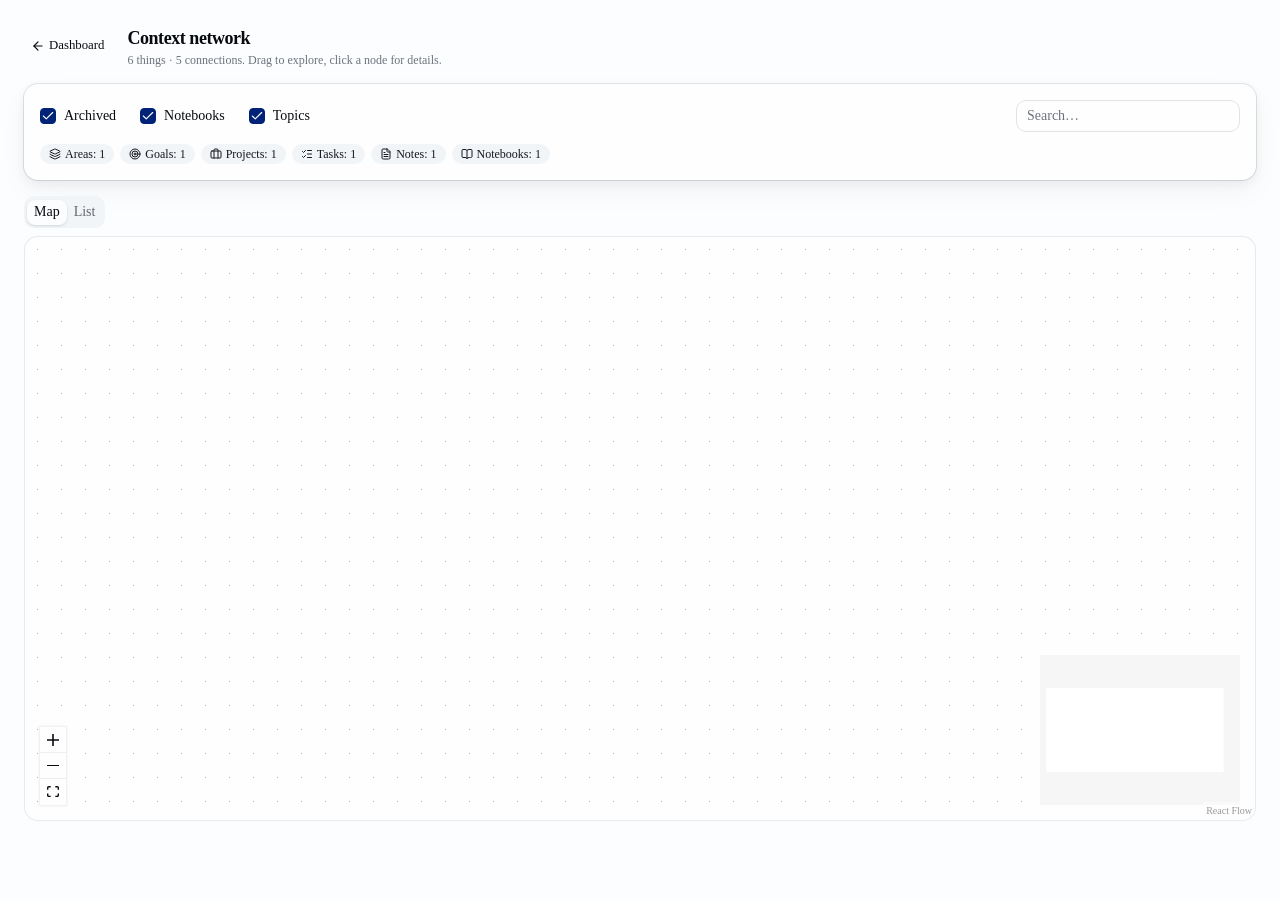
Test: NetworkExplorer › removes notebook hubs when Notebooks is unchecked
Check: the text "Notebooks: 1" is shown, box [452,144,550,164]
Click the 2nd checkbox named "Notebooks".
click(148, 116)  # box [140,108,156,124]
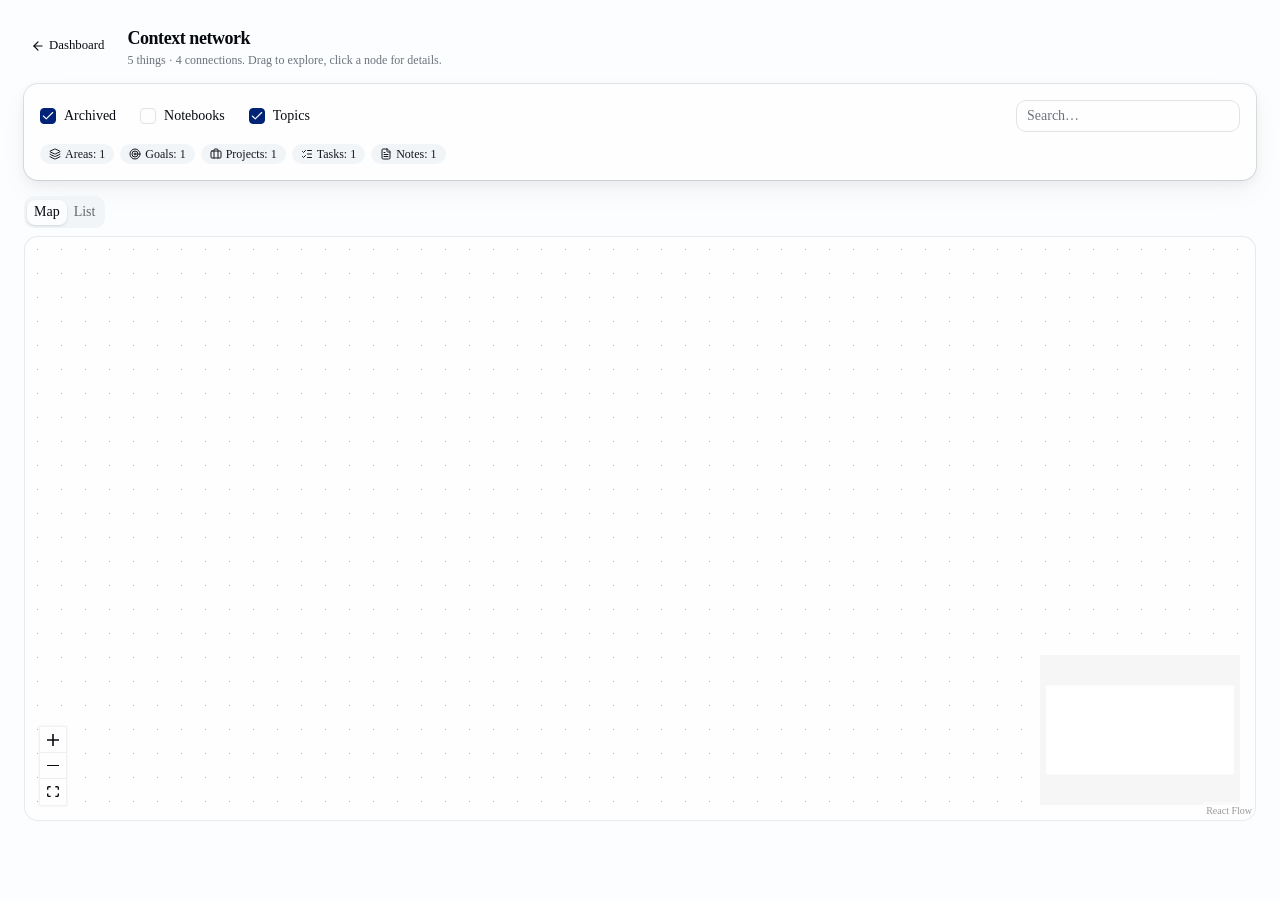
Check: the text "Notebooks: 1" is gone
Check: the text "5 things · 4 connections" is shown, box [127,52,442,68]
